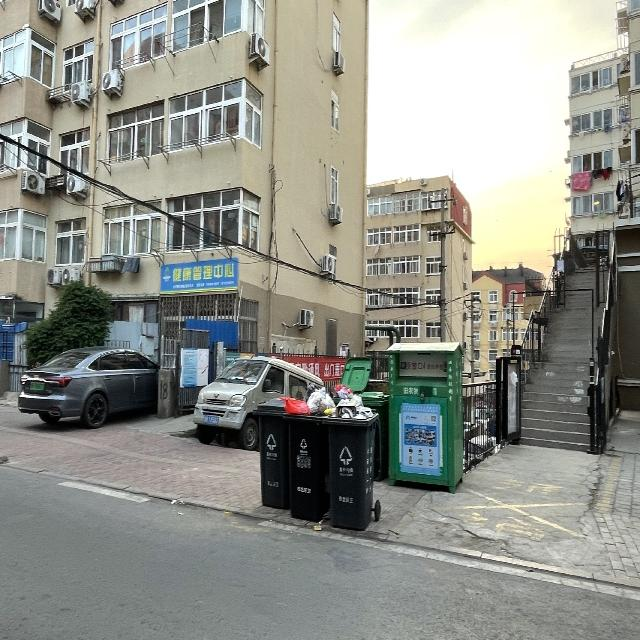garbage_bin: (252, 396, 289, 508), (362, 390, 389, 481)
overflow: (320, 382, 378, 529), (278, 386, 336, 522)
